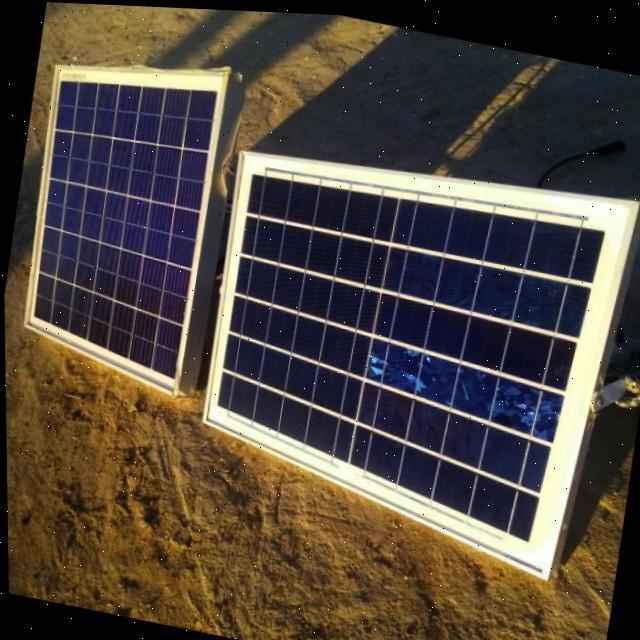Normal Solar Panel: (183, 120, 640, 580), (12, 33, 233, 392)
